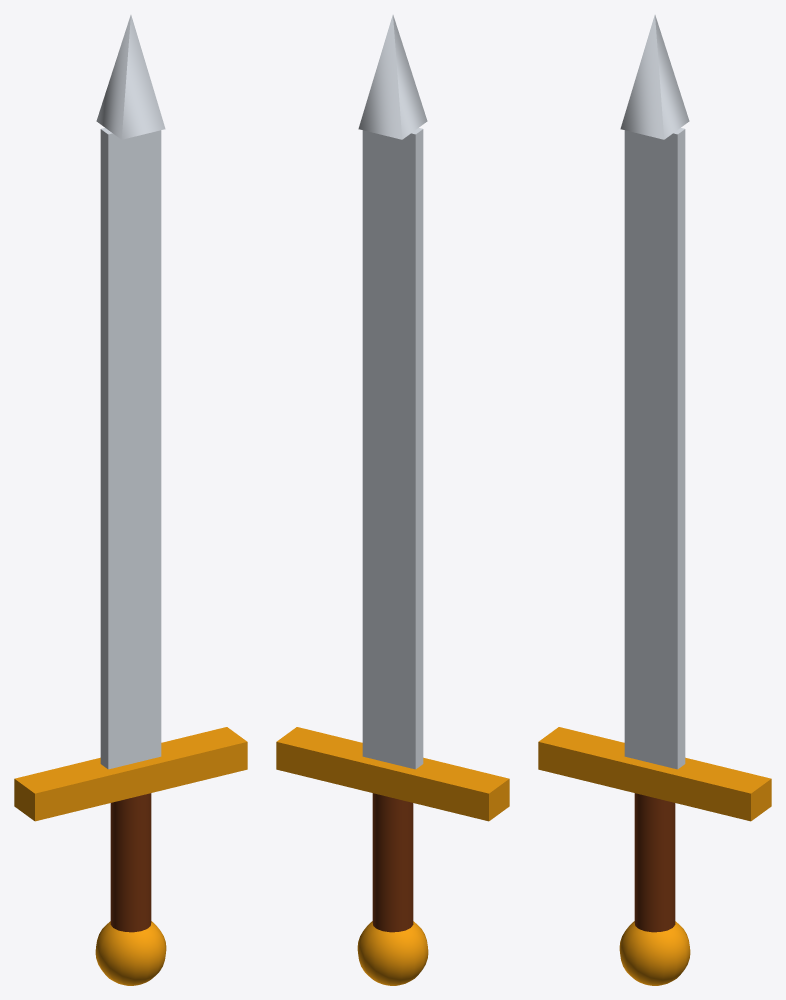
File: sword.glb
The picture shows the model from 3 angles, left to right: view 1: azimuth 30°, elevation 25°; view 2: azimuth 150°, elevation 25°; view 3: azimuth 330°, elevation 25°; orthographic projection.
Bounding box in the file's own units: 0.24 × 1.04 × 0.07.
